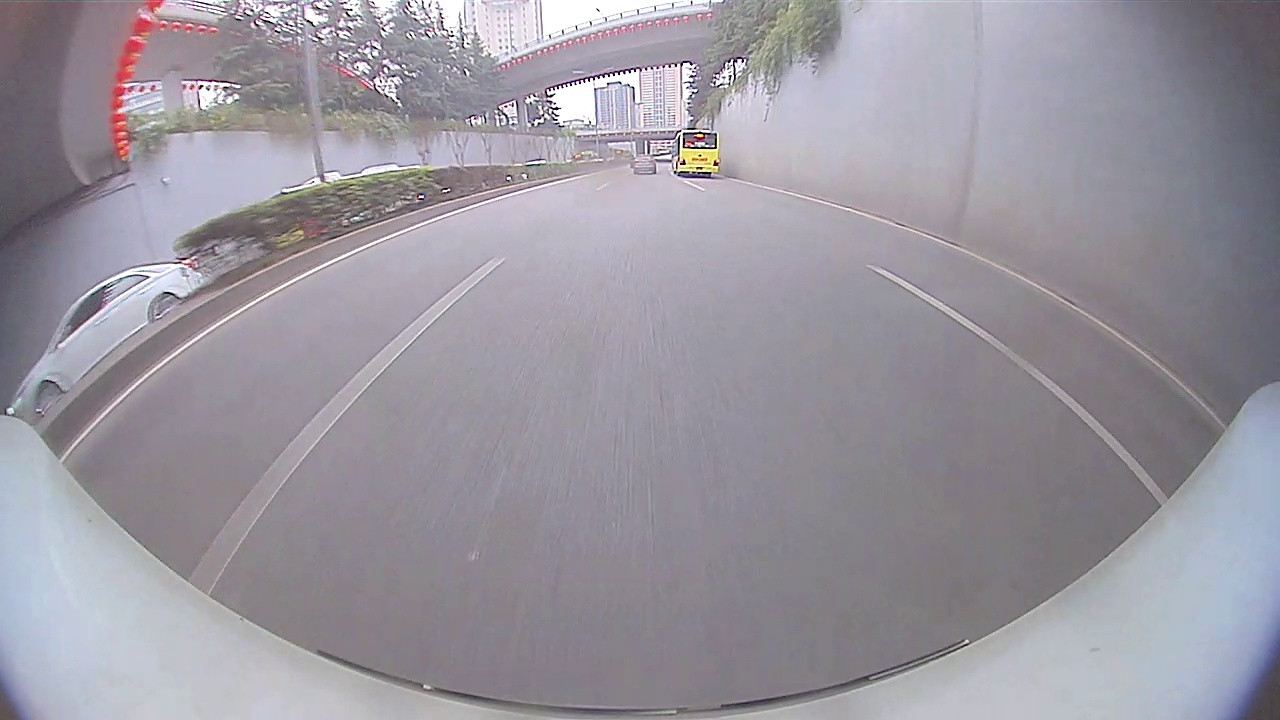bus: (668, 127, 723, 178)
car: (2, 260, 208, 431), (631, 152, 658, 178)
front: (32, 379, 62, 413)
rear: (146, 291, 183, 319)
